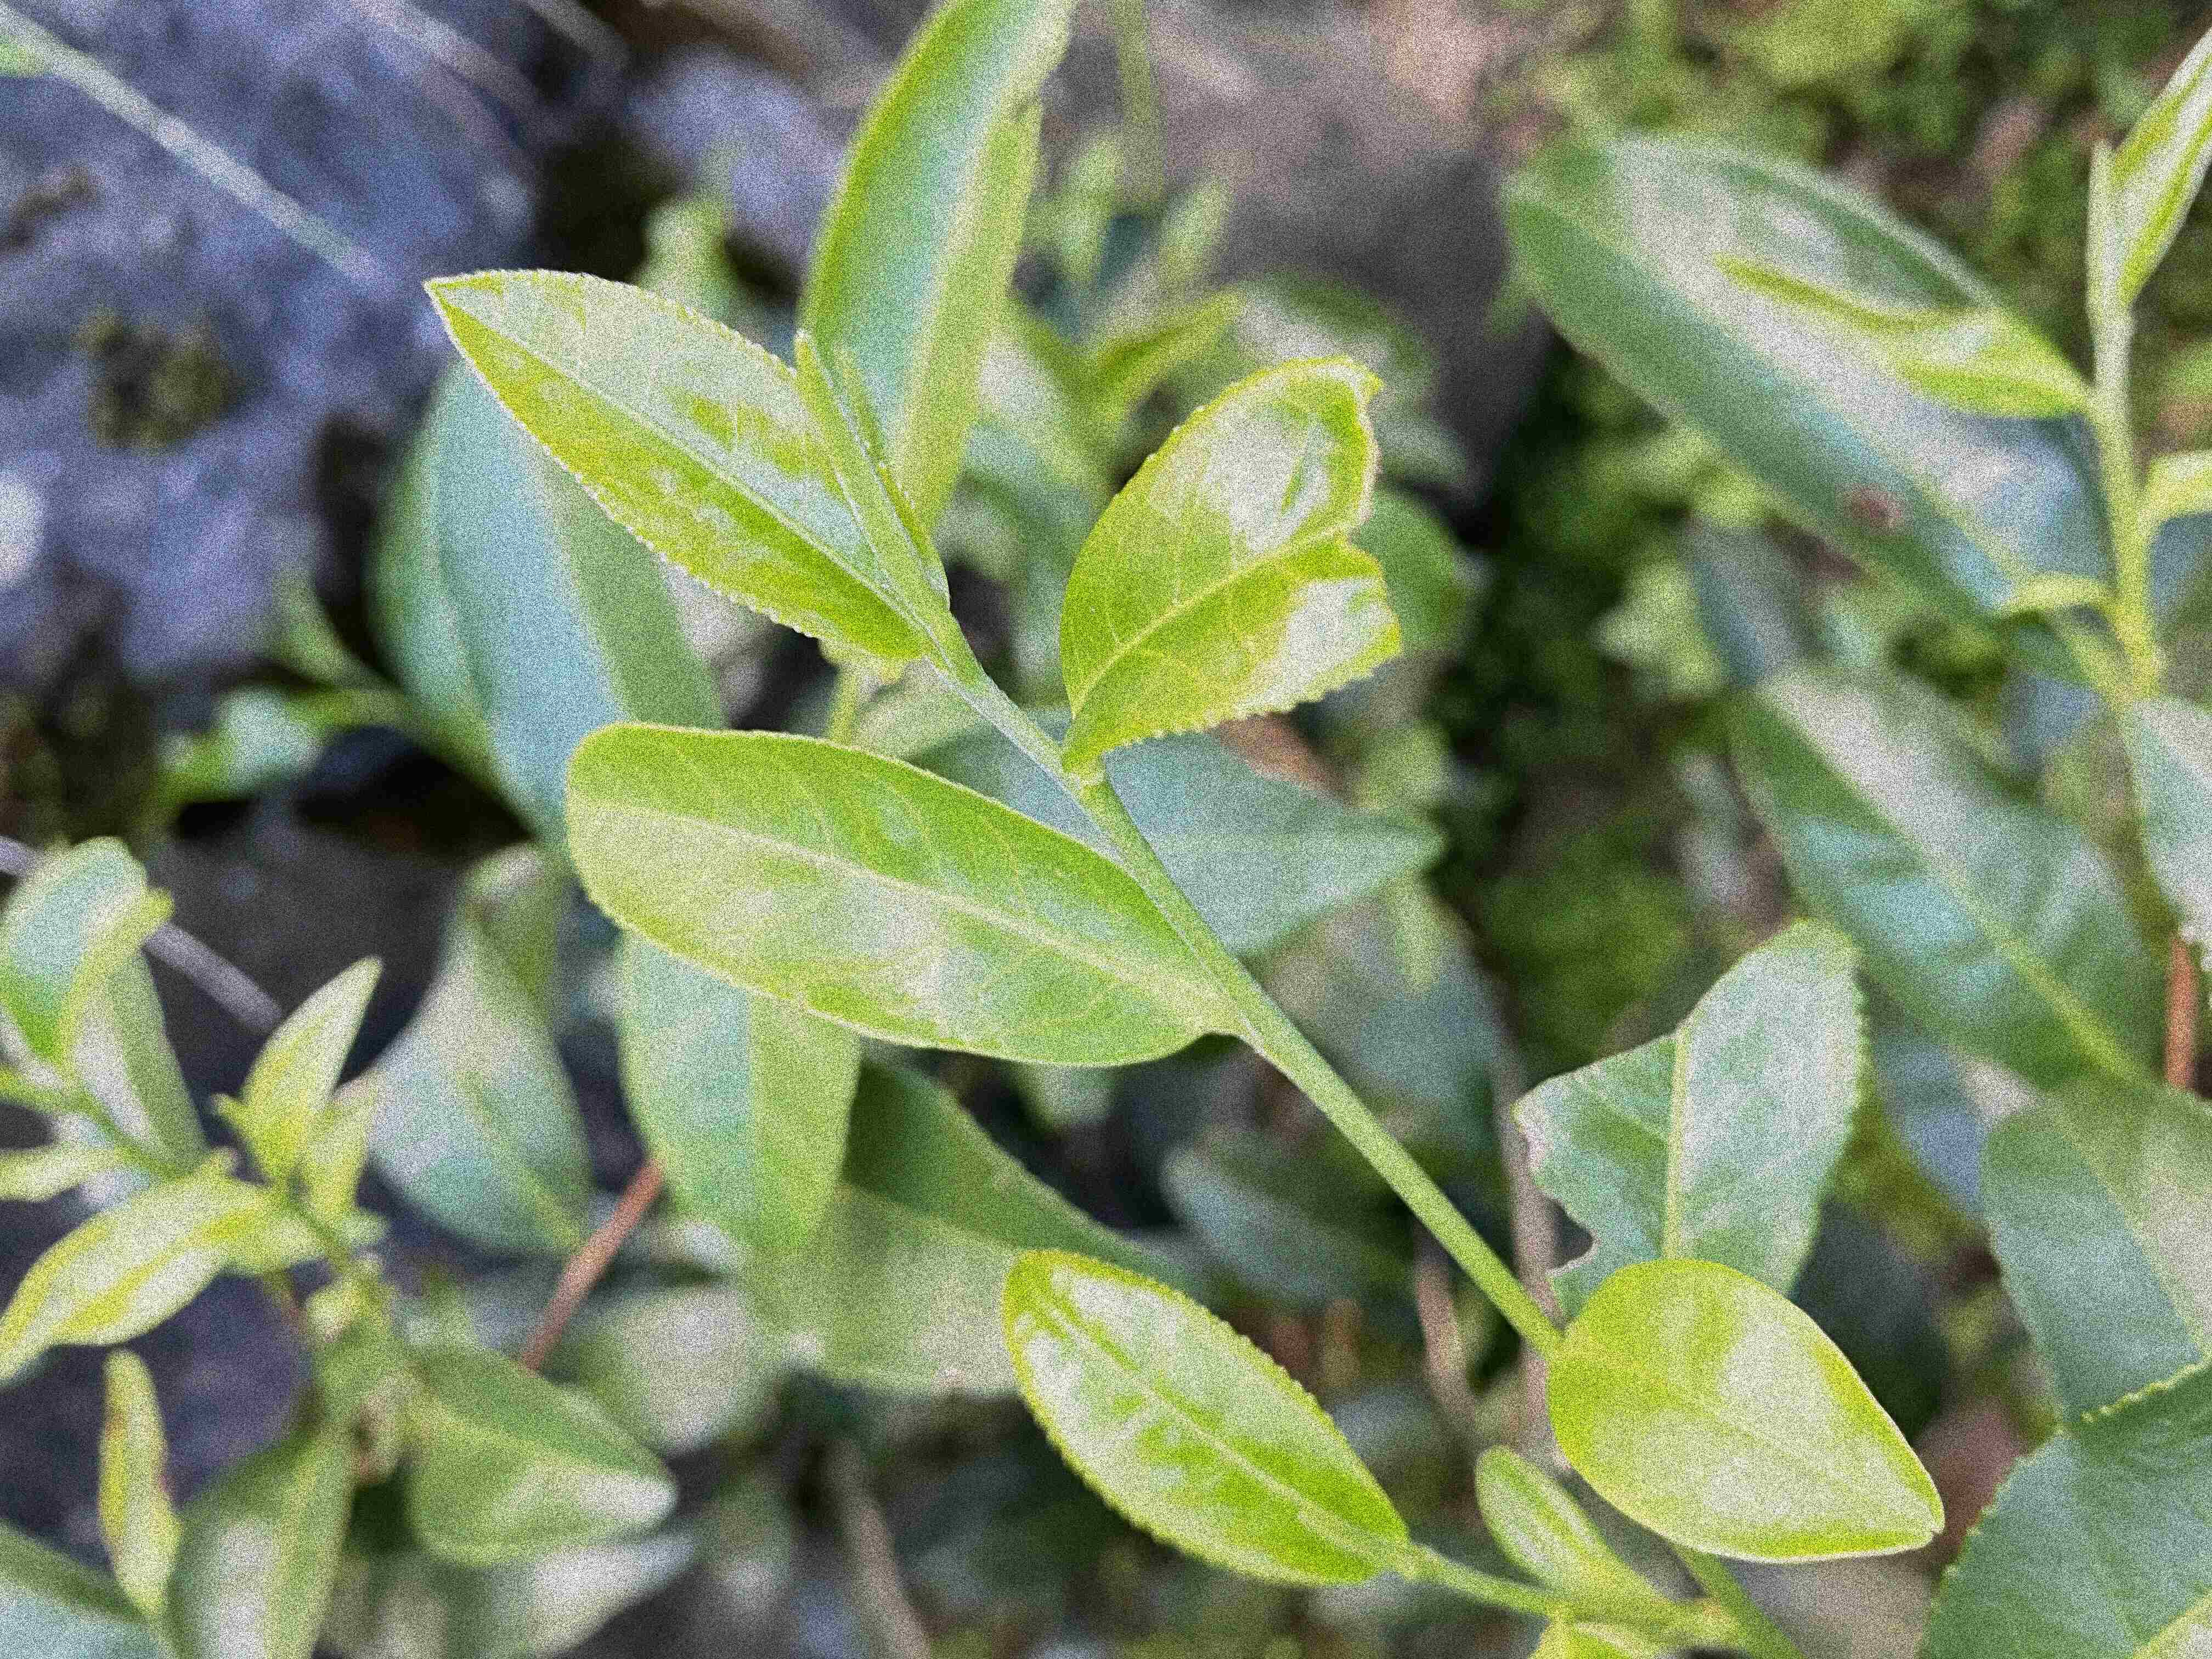chihuo_high: (1052, 350, 1409, 775), (1507, 913, 1871, 1323)
healthy: (564, 718, 1217, 1072), (423, 263, 953, 662), (996, 1243, 1413, 1588), (1545, 1253, 1949, 1565)
